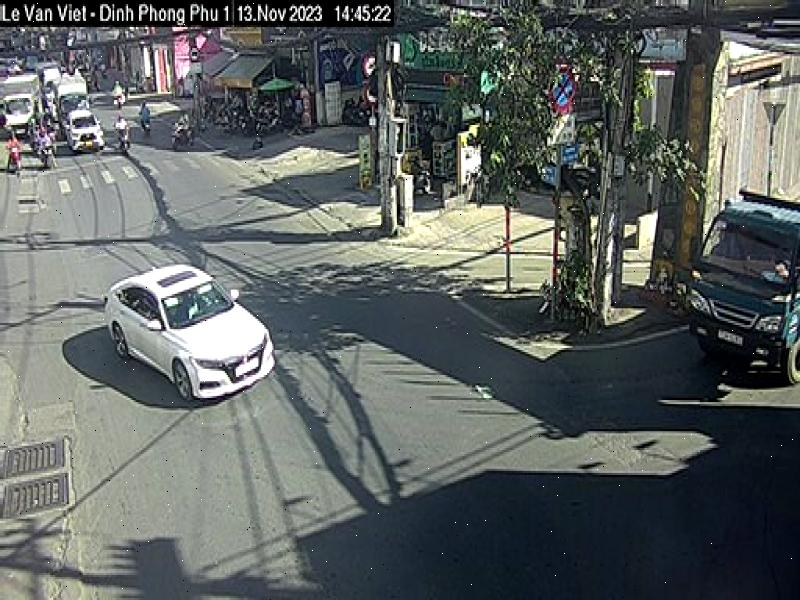truck: (687, 172, 800, 388)
